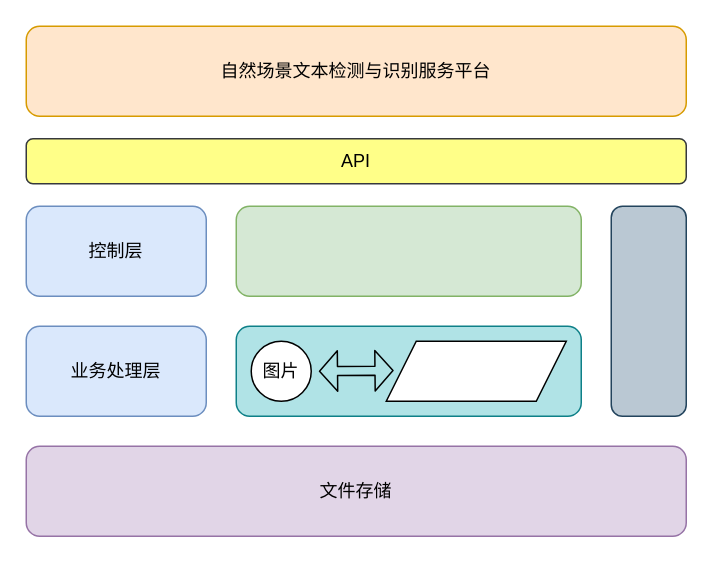
Some shapes in this 713 by 563 pixel diagram are drawn without their labels. Each missing label, with the centre of its shape:
控制器: (408,250)
服务器: (648,310)
检测与识别模型: (475,370)
